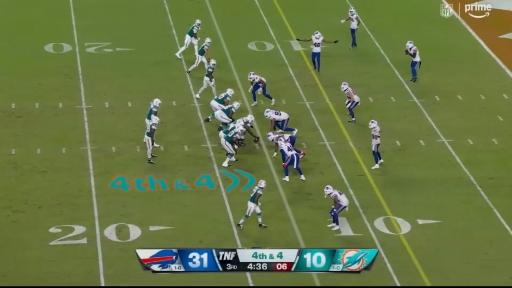Helmet: (325, 186, 333, 197), (277, 137, 286, 146), (264, 109, 272, 118), (267, 132, 275, 141), (258, 180, 266, 188), (369, 120, 377, 128), (151, 116, 159, 124), (152, 99, 161, 106), (341, 82, 348, 91), (406, 41, 414, 48), (246, 115, 254, 122), (226, 89, 234, 96), (248, 72, 255, 80), (233, 102, 240, 109), (314, 32, 321, 39), (210, 60, 216, 67), (350, 7, 355, 15), (195, 20, 201, 26)
Jersey: (279, 143, 297, 157), (331, 190, 347, 205), (249, 186, 262, 204), (224, 129, 238, 144), (344, 87, 359, 101), (214, 93, 230, 105), (270, 111, 289, 121), (408, 46, 420, 61), (312, 36, 323, 52), (146, 104, 157, 120), (372, 126, 380, 144), (273, 135, 290, 143), (198, 44, 209, 56), (146, 124, 156, 137), (222, 105, 235, 115), (188, 25, 198, 37), (350, 13, 358, 28), (236, 118, 250, 126), (223, 126, 235, 135), (206, 65, 214, 78), (257, 76, 266, 85)
Player: (296, 32, 338, 72), (237, 180, 266, 229), (278, 139, 305, 181), (325, 186, 348, 230), (205, 89, 234, 122), (176, 20, 201, 58), (221, 126, 243, 167), (248, 72, 274, 106), (187, 38, 211, 74), (264, 109, 297, 135), (195, 60, 216, 98), (341, 7, 360, 48), (341, 83, 360, 122), (214, 102, 240, 130), (267, 132, 295, 157), (236, 115, 259, 145), (369, 120, 383, 169), (145, 116, 159, 163), (406, 41, 421, 82), (145, 99, 161, 130), (219, 123, 235, 139)
